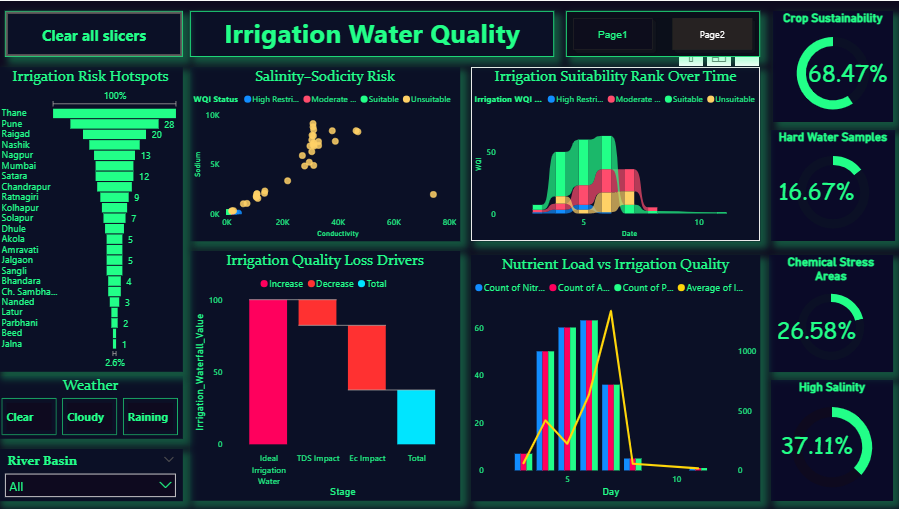

This screenshot's page, from the dashboard's own definition file:
{"tool":"powerbi","page":{"name":"Page2","canvas":[1280,720],"ordinal":1},"visuals":[{"type":"donutChart","title":"Crop Sustainability","fields":{"Y":["Measures Table.% Suitable for Irrigation","Measures Table.Remaining unsafe irrigation %"]},"box":[1098.4,14.2,170.1,157.3],"z":0},{"type":"card","fields":{"Values":["Measures Table.% Suitable for Irrigation"]},"box":[1136.7,65.2,134.6,75.1],"z":1000},{"type":"donutChart","title":"Hard Water Samples","fields":{"Y":["Measures Table.% Hard Water Samples","Measures Table.Remaining Hard Water Samples"]},"box":[1095.6,182.8,175.7,157.3],"z":2000},{"type":"card","fields":{"Values":["Measures Table.% Hard Water Samples"]},"box":[1098.4,238.1,121.9,65.2],"z":3000},{"type":"donutChart","title":" Chemical Stress Areas","fields":{"Y":["Measures Table.% Area under Chemical Stress","CountNonNull(Water Sampling Data.STN Code)"]},"box":[1092.8,360,175.7,165.8],"z":4000},{"type":"card","fields":{"Values":["Measures Table.% Area under Chemical Stress"]},"box":[1092.8,432.3,133.2,70.9],"z":5000},{"type":"scatterChart","title":"Salinity–Sodicity Risk","fields":{"X":["Water Sampling Data.Conductivity"],"Y":["Water Sampling Data.Sodium"],"Series":["Water Sampling Data.Irrigation WQI Status"]},"box":[272.1,93.5,382.7,246.6],"z":6000},{"type":"ribbonChart","title":"Irrigation Suitability Rank Over Time","fields":{"Category":["Calendar.Day"],"Y":["CountNonNull(Water Sampling Data.Irrigation WQI)"],"Series":["Water Sampling Data.Irrigation WQI Status"]},"box":[670.4,93.5,409.6,246.6],"z":7000},{"type":"waterfallChart","title":"Irrigation Quality Loss Drivers","fields":{"Category":["Irrigation_Waterfall.Stage"],"Y":["Measures Table.Irrigation_Waterfall_Value"]},"box":[272.1,354.3,382.7,354.3],"z":8000},{"type":"lineClusteredColumnComboChart","title":"Nutrient Load vs Irrigation Quality","fields":{"Category":["Calendar.Day"],"Y":["CountNonNull(Water Sampling Data.Nitrate N)","CountNonNull(Water Sampling Data.Amonia N)","CountNonNull(Water Sampling Data.Phosphate)"],"Y2":["Avg(Water Sampling Data.Irrigation WQI)"]},"box":[670.4,360,409.6,348.7],"z":9000},{"type":"textbox","box":[272.1,14.2,515.9,65.2],"z":10000},{"type":"advancedSlicerVisual","fields":{"Values":["Water Sampling Data.Weather"]},"box":[0,531.5,262.2,89.3],"z":11000},{"type":"slicer","fields":{"Values":["Water Sampling Data.River Basin"]},"box":[0,635,262.2,73.7],"z":12000},{"type":"funnel","title":"Irrigation Risk Hotspots","fields":{"Category":["Water Sampling Data.District"],"Y":["Count(Water Sampling Data.Irrigation WQI)"]},"box":[0,93.5,262.2,432.3],"z":13000},{"type":"pageNavigator","box":[805,14.2,275,65.2],"z":14000},{"type":"donutChart","title":" High Salinity ","fields":{"Y":["Measures Table.High Salinity Locations","Measures Table.Ideal Irrigation"]},"box":[1095.6,537.2,172.9,171.5],"z":15000},{"type":"textbox","box":[1007.7,602.4,258,65.2],"z":16000},{"type":"actionButton","box":[9.9,14.2,252.3,65.2],"z":16001}]}

Visuals, with their boxes in screenshot pixels (x1, y1, x2, y2), scaled from the page's 1280x720 canvas onto the 899x509 screenshot:
"Crop Sustainability" donutChart: locate(771, 10, 891, 121)
card - Measures Table.% Suitable for Irrigation: locate(798, 46, 893, 99)
"Hard Water Samples" donutChart: locate(769, 129, 893, 240)
card - Measures Table.% Hard Water Samples: locate(771, 168, 857, 214)
" Chemical Stress Areas" donutChart: locate(768, 255, 891, 372)
card - Measures Table.% Area under Chemical Stress: locate(768, 306, 861, 356)
"Salinity–Sodicity Risk" scatterChart: locate(191, 66, 460, 240)
"Irrigation Suitability Rank Over Time" ribbonChart: locate(471, 66, 759, 240)
"Irrigation Quality Loss Drivers" waterfallChart: locate(191, 250, 460, 501)
"Nutrient Load vs Irrigation Quality" lineClusteredColumnComboChart: locate(471, 255, 759, 501)
textbox: locate(191, 10, 553, 56)
advancedSlicerVisual - Water Sampling Data.Weather: locate(0, 376, 184, 439)
slicer - Water Sampling Data.River Basin: locate(0, 449, 184, 501)
"Irrigation Risk Hotspots" funnel: locate(0, 66, 184, 372)
pageNavigator: locate(565, 10, 759, 56)
" High Salinity " donutChart: locate(769, 380, 891, 501)
textbox: locate(708, 426, 889, 472)
actionButton: locate(7, 10, 184, 56)
